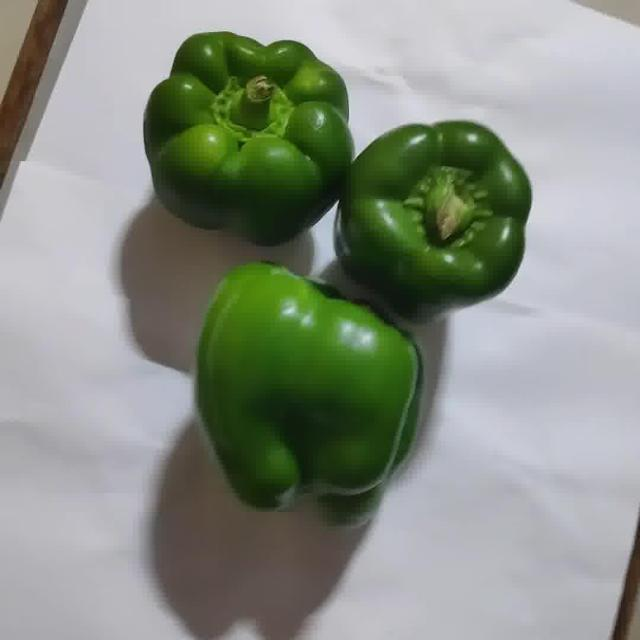Bell Pepper: (195, 262, 425, 526), (143, 31, 353, 245), (338, 121, 531, 318)
